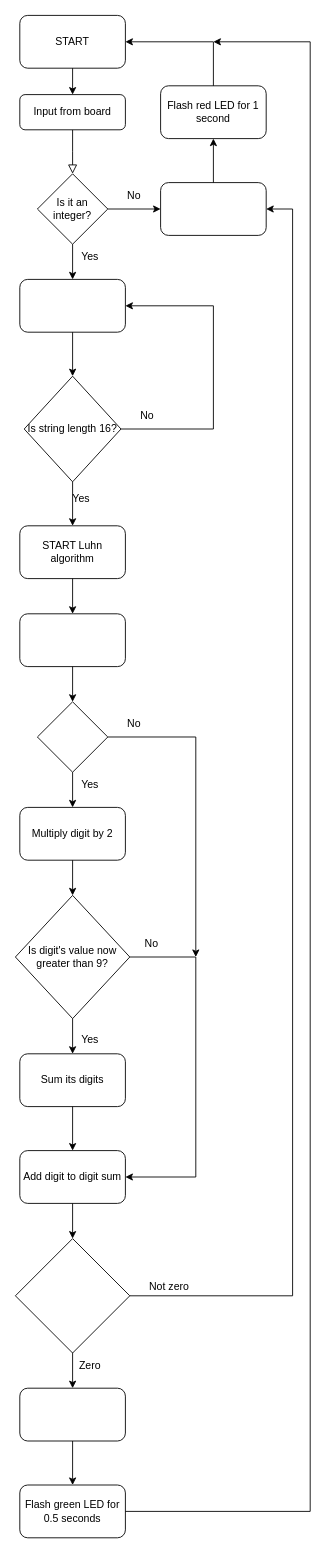
Some shapes in this 333 by 1553 pixel diagram are drawn without their labels. Each missing label, with the centre of its shape:
"Add to string" belongs at pixel 72 305.
"INVALID" belongs at pixel 213 208.
"Is i value even?" belongs at pixel 72 736.
"Loop through digits" belongs at pixel 72 640.
"VALID" belongs at pixel 72 1414.
"What is the value of sum % 10?" belongs at pixel 72 1295.
